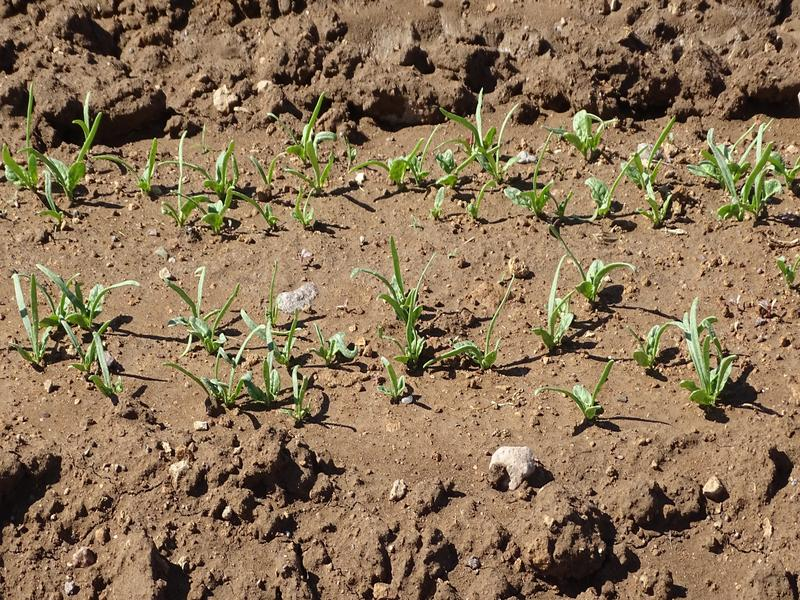Espinaca: (13, 97, 792, 220), (170, 273, 359, 420), (369, 242, 511, 402), (19, 271, 135, 389), (640, 299, 734, 408), (540, 253, 623, 342), (542, 361, 619, 425)
